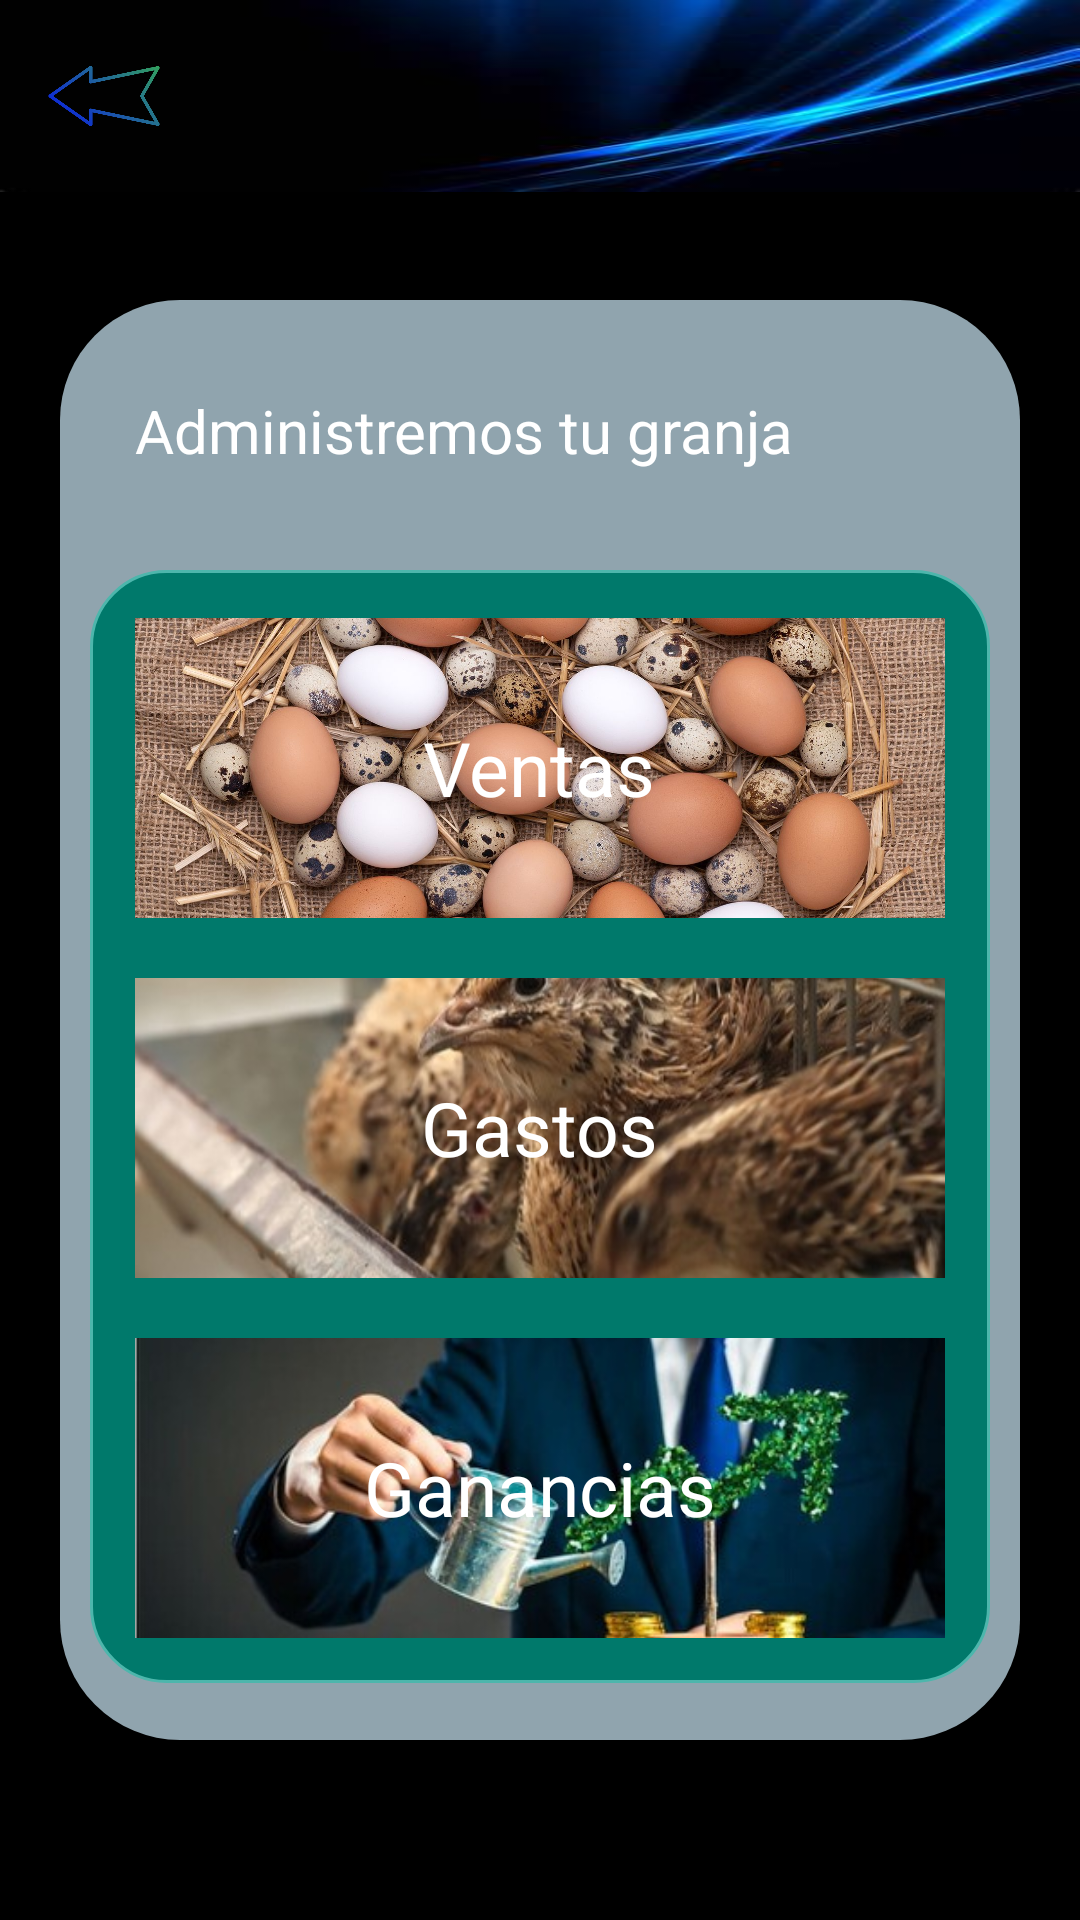

Where to tap for icons on this 1080px×1920px app screen, as (x=x, y=y):
back: (x=80, y=129)
